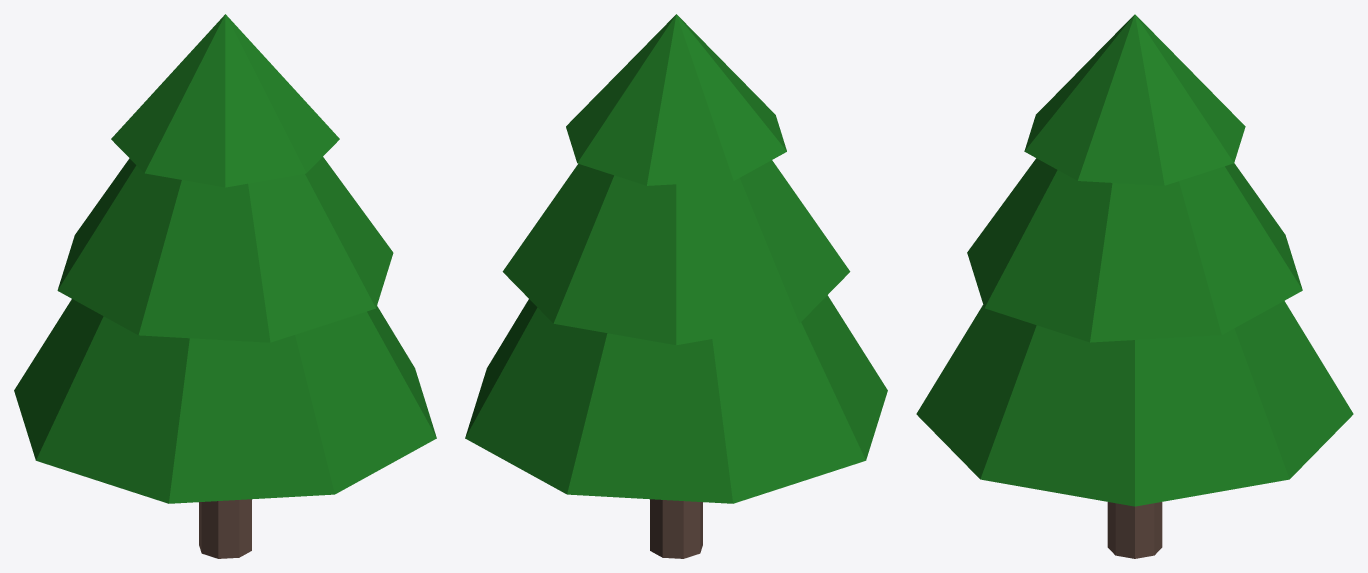
The model's file is pinetree2.fbx.
3 views of the same model, side by side, from view 1: azimuth 30°, elevation 25°; view 2: azimuth 150°, elevation 25°; view 3: azimuth 270°, elevation 25° (orthographic).
Visible parts, largest first — view 1: sapin2; view 2: sapin2; view 3: sapin2.
Part boxes in pixels (x1,y1,x2,y2): sapin2: (14,14,436,558); sapin2: (465,14,887,558); sapin2: (916,14,1353,558).
Bounding box in the file's own units: 127 × 171 × 127.
